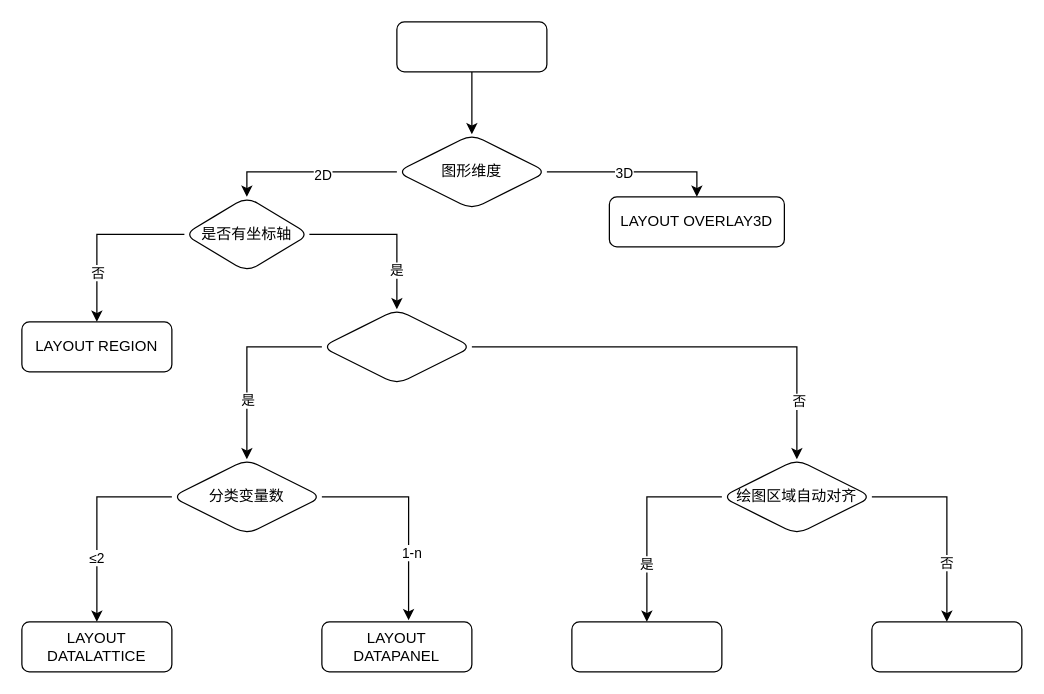
The diagram is 1044 pixels wide and 694 high, and some of its shapes have lost their labels. The shapes that lost their labels are listed below. From the top down, each one's box as (x1, y1, x2, y2) in pixels, then its label:
(396, 21, 547, 72): LAYOUT语句
(321, 308, 472, 384): 是否数据驱动
(571, 621, 722, 672): LAYOUT LATTICE
(871, 621, 1022, 672): LAYOUT GRIDDED
